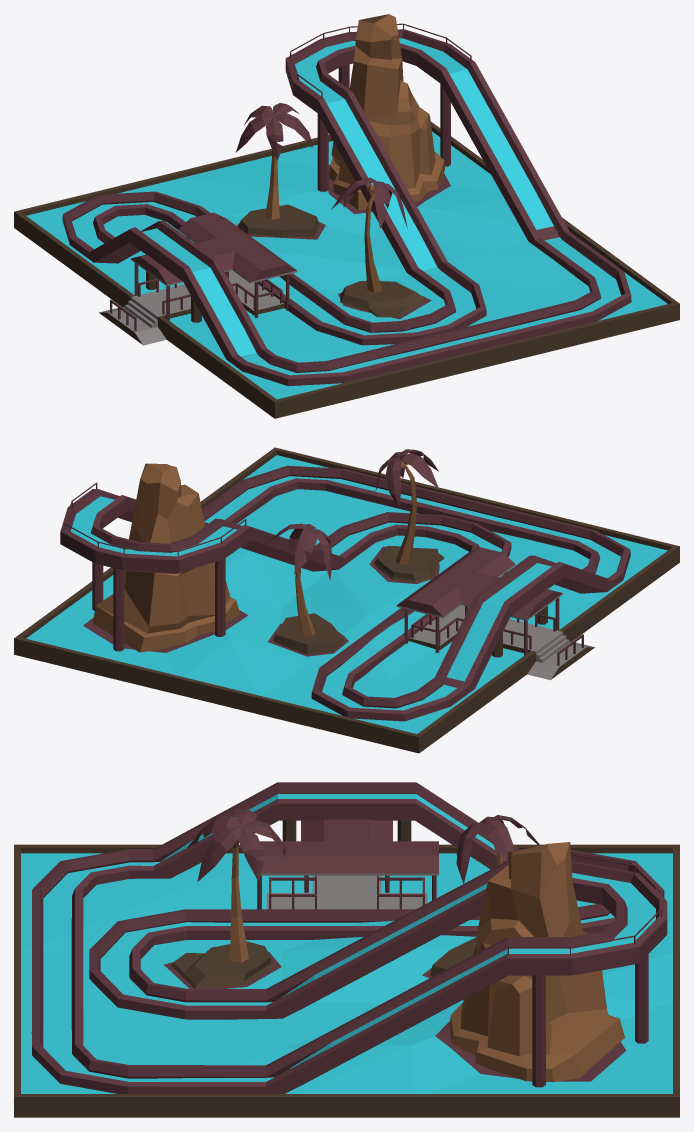
The model's file is water-ride.fbx.
The picture shows the model from 3 angles, top to bottom: view 1: azimuth 30°, elevation 25°; view 2: azimuth 150°, elevation 25°; view 3: azimuth 270°, elevation 25°; orthographic projection. The views are drawn at different scales.
Parts seen in each view (by area): view 1: water-ride.001; view 2: water-ride.001; view 3: water-ride.001.
Part boxes in pixels (x1,y1,x2,y2): water-ride.001: (14, 14, 679, 418); water-ride.001: (14, 447, 679, 753); water-ride.001: (14, 782, 679, 1117).
Bounding box in the file's own units: 27.5 × 10.78 × 29.
